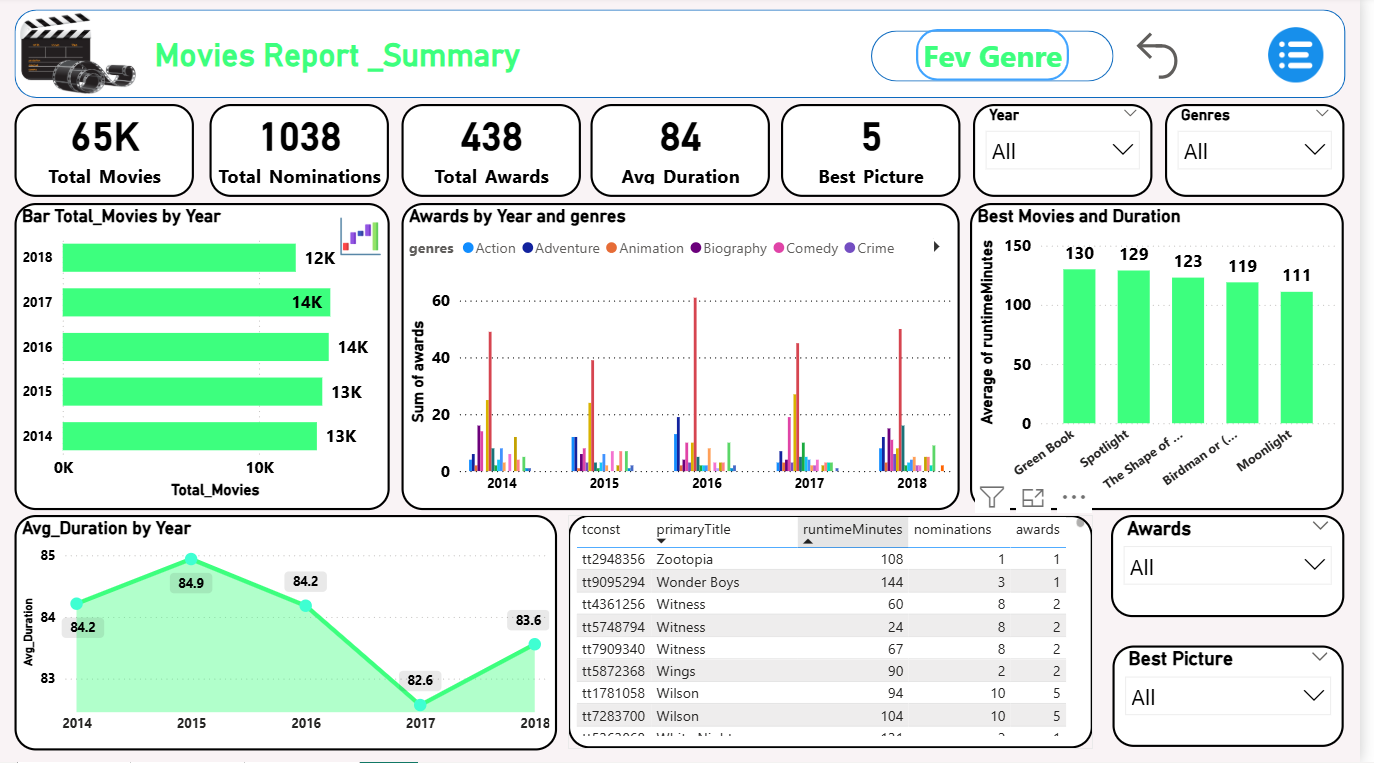

The dashboard page shown, as its layout file describes it:
{"tool":"powerbi","page":{"name":"Page 1","canvas":[1280,720],"ordinal":0},"visuals":[{"type":"shape","box":[15.1,13.2,1251,83.2],"z":0},{"type":"image","box":[15.1,7.6,119.1,94.5],"z":1000},{"type":"textbox","title":"Movies Report _Summary","box":[134.2,37.8,370.4,41.6],"z":2000},{"type":"image","box":[1187.9,23.4,65.6,62.5],"z":3000},{"type":"actionButton","box":[1062,24,56,64],"z":4000},{"type":"shape","box":[820,32,228,48],"z":5000},{"type":"card","fields":{"Values":["Data.Total_Movies"]},"box":[15.6,101.6,168.8,87.5],"z":6000},{"type":"card","fields":{"Values":["Data.Total_Nominations"]},"box":[198.5,101.6,168.8,87.5],"z":7000},{"type":"card","fields":{"Values":["Data.Total_Awards"]},"box":[379.8,101.6,168.8,87.5],"z":8000},{"type":"card","fields":{"Values":["Data.Avg_Duration"]},"box":[556.4,101.6,168.8,87.5],"z":9000},{"type":"card","fields":{"Values":["Data.Best_Picture"]},"box":[736.2,101.6,168.8,87.5],"z":10000},{"type":"slicer","fields":{"Values":["Data.startYear"]},"box":[915.9,101.6,168.8,87.5],"z":11000},{"type":"slicer","fields":{"Values":["movies.genres"]},"box":[1097.2,101.6,168.8,87.5],"z":12000},{"type":"clusteredBarChart","title":"Bar Total_Movies by Year","fields":{"Category":["Data.startYear"],"Y":["Data.Total_Movies"]},"box":[14.8,194.6,353,288.7],"z":13000},{"type":"clusteredColumnChart","title":"Awards by Year and genres","fields":{"Category":["Data.startYear"],"Y":["Sum(Data.awards)"],"Series":["movies.genres"]},"box":[379.4,194.6,524.5,288.7],"z":14000},{"type":"clusteredColumnChart","title":"Best Movies  and Duration","fields":{"Category":["Data.primaryTitle"],"Y":["Avg(Data.runtimeMinutes)"]},"box":[913.8,194.6,351.3,288.7],"z":15000},{"type":"lineChart","title":"Avg_Duration by Year","fields":{"Category":["Data.startYear"],"Y":["Data.Avg_Duration"]},"box":[14.8,488.2,509.7,221],"z":16000},{"type":"tableEx","fields":{"Values":["Data.tconst","Data.primaryTitle","Data.runtimeMinutes","Data.nominations","Data.awards"]},"box":[536.1,488.2,493.2,219.4],"z":17000},{"type":"slicer","fields":{"Values":["Data.best picture"]},"box":[1047.2,611.1,217.3,95.3],"z":18000},{"type":"slicer","fields":{"Values":["Data.awards"]},"box":[1045.8,488.2,219.4,95.7],"z":19000},{"type":"actionButton","box":[862.8,31.3,143.8,48.5],"z":20000},{"type":"image","title":"WF","box":[316,202,50,48],"z":23000}]}

Visuals, with their boxes in screenshot pixels (x1, y1, x2, y2), scaled from the page's 1280x720 canvas onto the 1374x763 screenshot:
shape: <region>16, 14, 1359, 102</region>
image: <region>16, 8, 144, 108</region>
"Movies Report _Summary" textbox: <region>144, 40, 542, 84</region>
image: <region>1275, 25, 1346, 91</region>
actionButton: <region>1140, 25, 1200, 93</region>
shape: <region>880, 34, 1125, 85</region>
card - Data.Total_Movies: <region>17, 108, 198, 200</region>
card - Data.Total_Nominations: <region>213, 108, 394, 200</region>
card - Data.Total_Awards: <region>408, 108, 589, 200</region>
card - Data.Avg_Duration: <region>597, 108, 778, 200</region>
card - Data.Best_Picture: <region>790, 108, 971, 200</region>
slicer - Data.startYear: <region>983, 108, 1164, 200</region>
slicer - movies.genres: <region>1178, 108, 1359, 200</region>
"Bar Total_Movies by Year" clusteredBarChart: <region>16, 206, 395, 512</region>
"Awards by Year and genres" clusteredColumnChart: <region>407, 206, 970, 512</region>
"Best Movies  and Duration" clusteredColumnChart: <region>981, 206, 1358, 512</region>
"Avg_Duration by Year" lineChart: <region>16, 517, 563, 752</region>
tableEx - Data.tconst x Data.primaryTitle: <region>575, 517, 1105, 750</region>
slicer - Data.best picture: <region>1124, 648, 1357, 749</region>
slicer - Data.awards: <region>1123, 517, 1358, 619</region>
actionButton: <region>926, 33, 1081, 85</region>
"WF" image: <region>339, 214, 393, 265</region>
